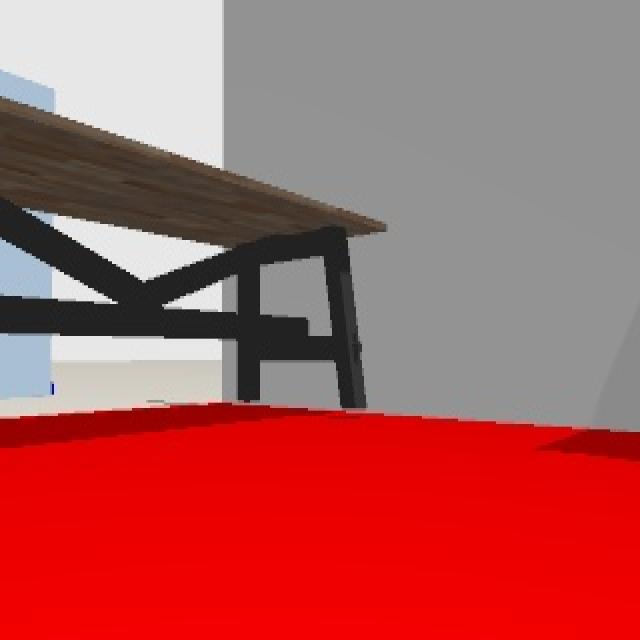dining: (0, 106, 388, 413)
